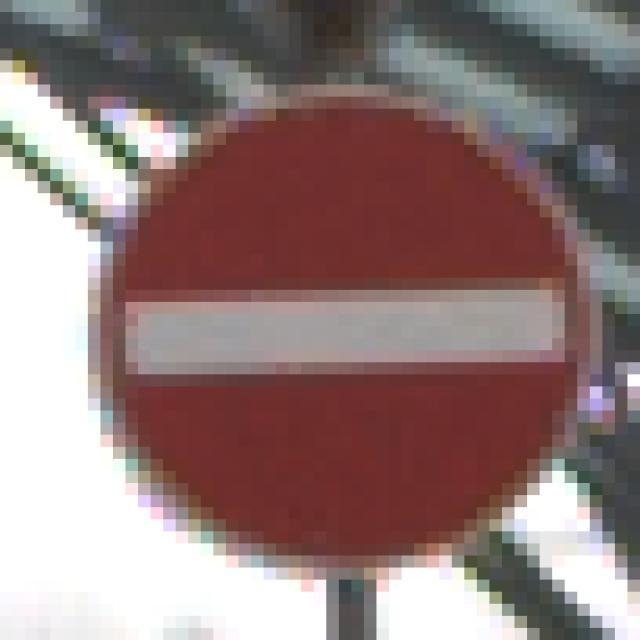no entry: (85, 87, 597, 574)
